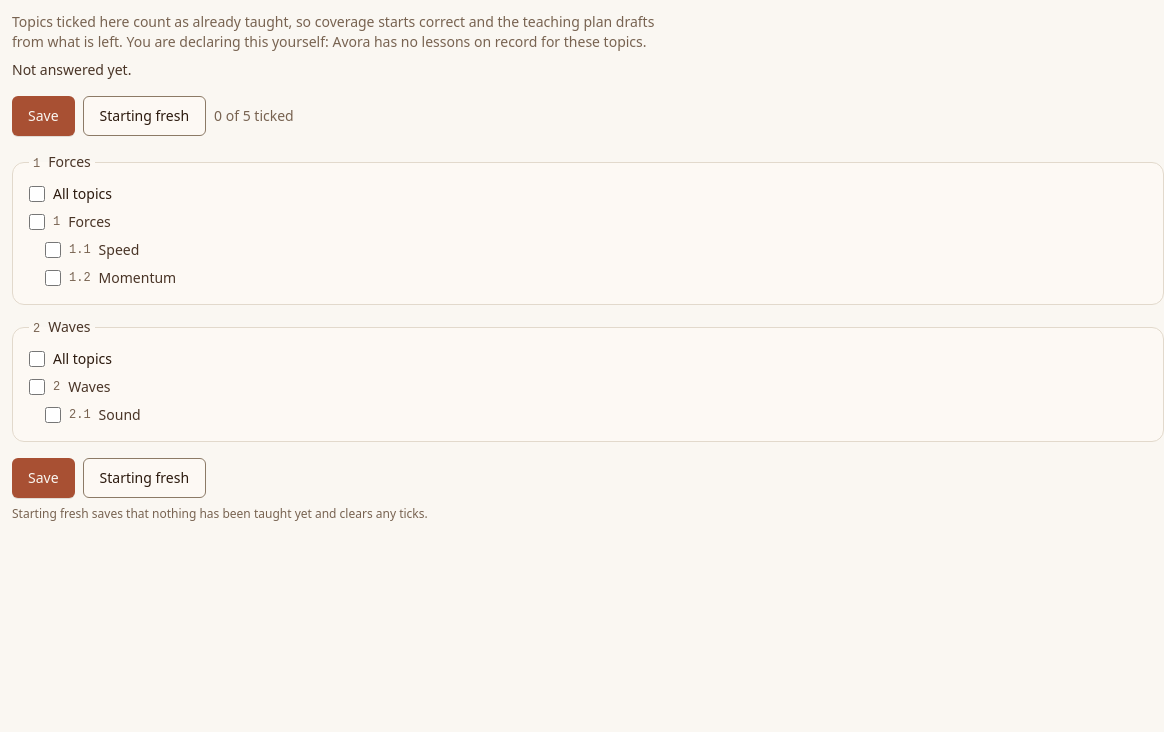
Test: ticking a chapter ticks its topics, and a partial one shows as mixed
This screenshot has width=1164, height=732.
Expected: the checkbox named "All topics in 1 Forces" is not checked, [29, 186, 45, 202]
Click the checkbox labelled "1.1 Speed".
click(53, 250)  # box [45, 242, 61, 258]
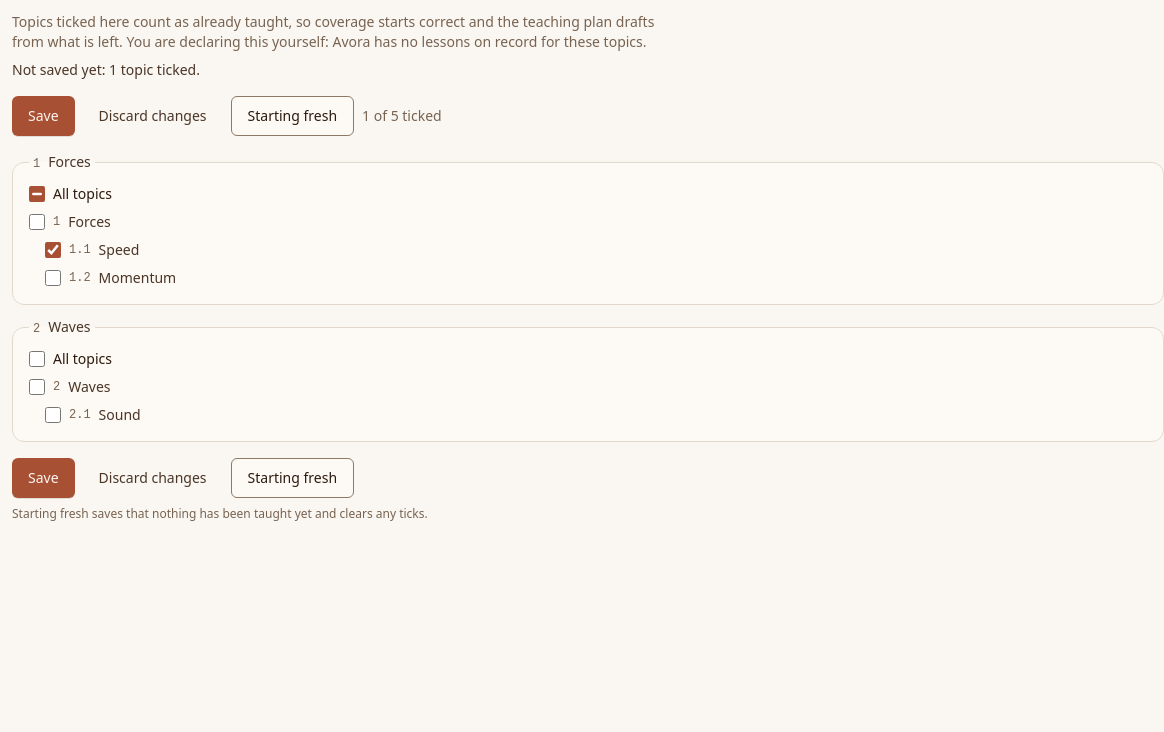
Click the checkbox named "All topics in 1 Forces".
click(37, 194)  # box [29, 186, 45, 202]
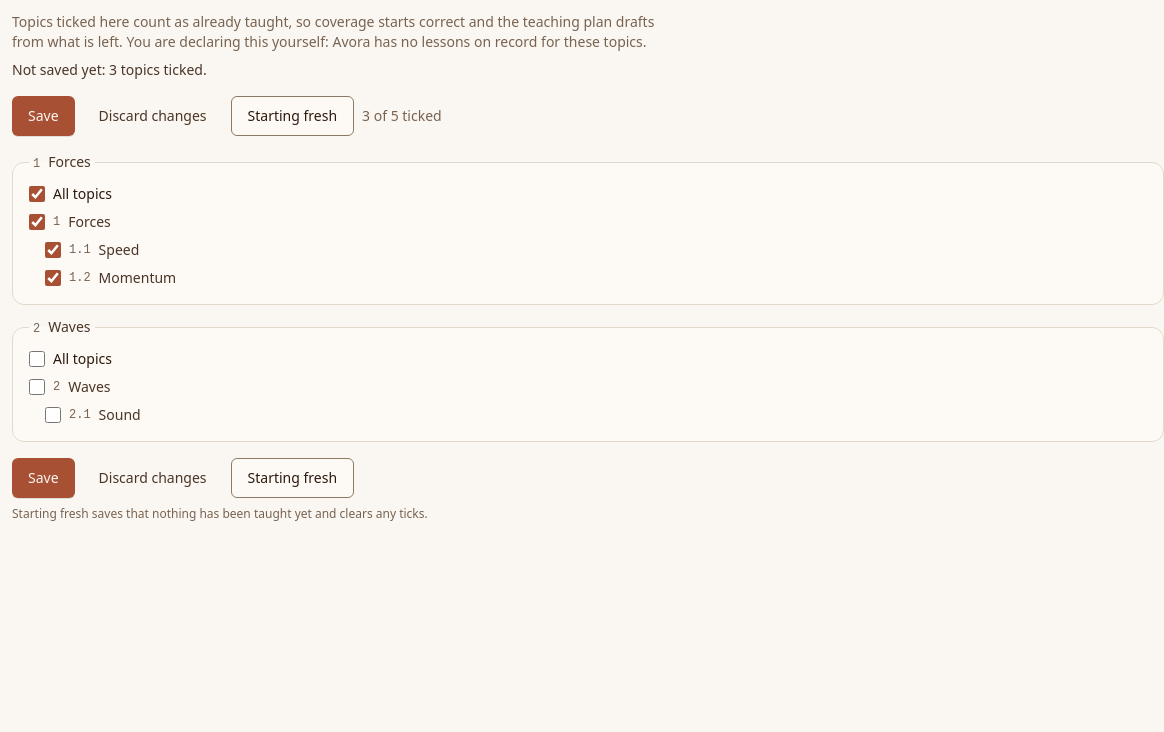
Result: the checkbox named "All topics in 1 Forces" is checked
Result: the checkbox labelled "1.1 Speed" is checked at [45, 242, 61, 258]
Result: the checkbox labelled "1 Forces" is checked at [29, 214, 45, 230]
Click the checkbox named "All topics in 1 Forces".
click(37, 194)  # box [29, 186, 45, 202]
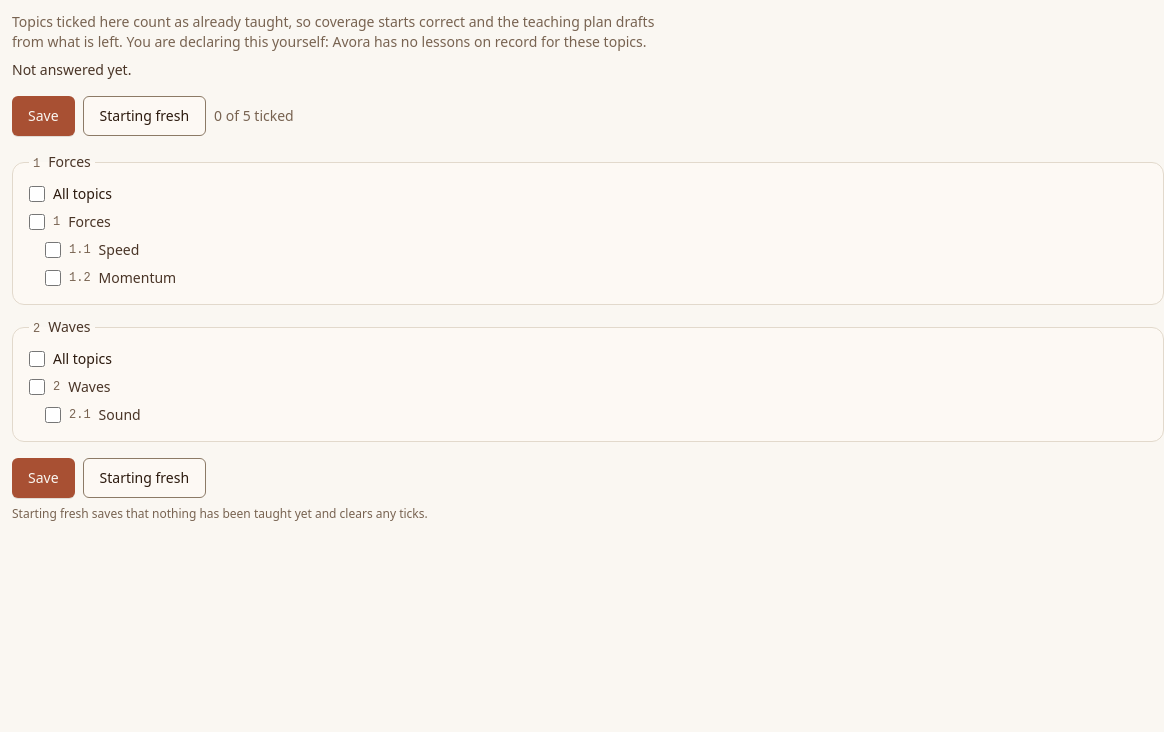
Result: the checkbox labelled "1.2 Momentum" is not checked at [45, 270, 61, 286]
